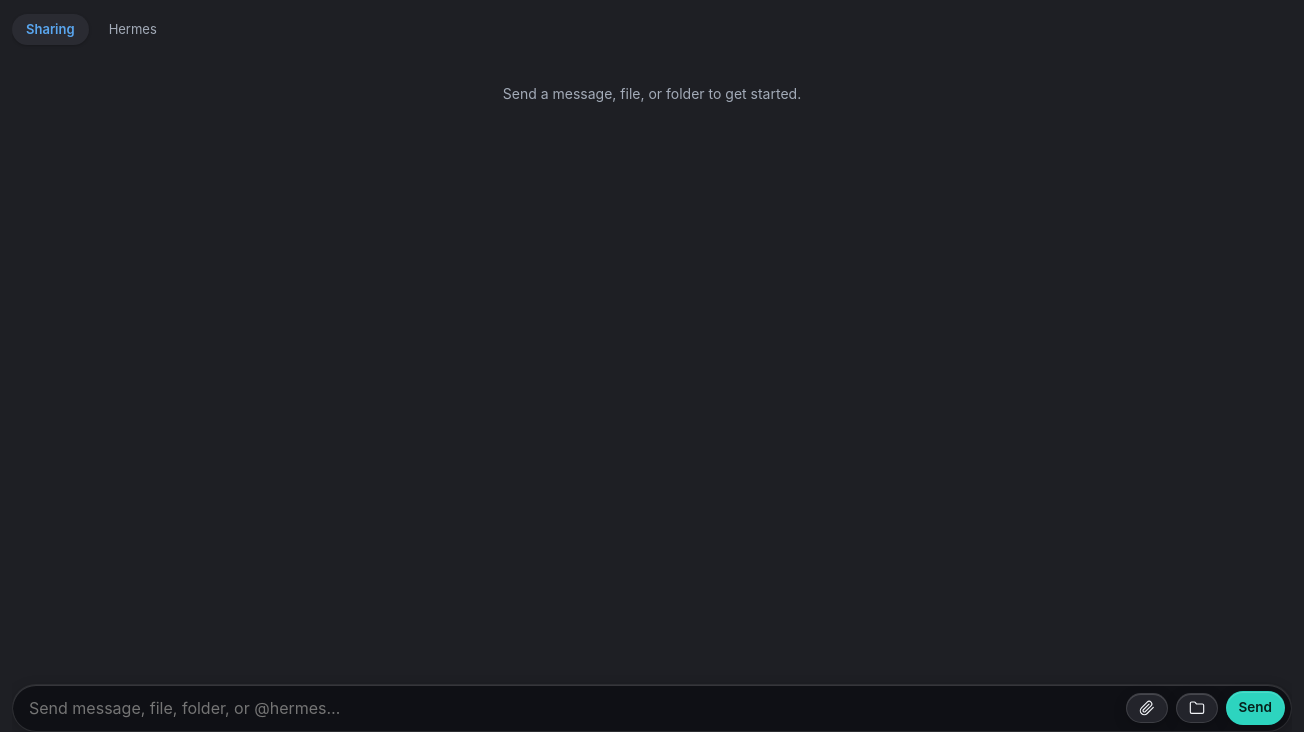
Scenario: ChatPanel › auto-switches to the Hermes tab when an @hermes message is sent
Step 1. Type "@hermes hi" into the field with placeholder "Send message, file, folder, or @hermes…" → x=572, y=708, box x1=27 y1=696 x2=1118 y2=721
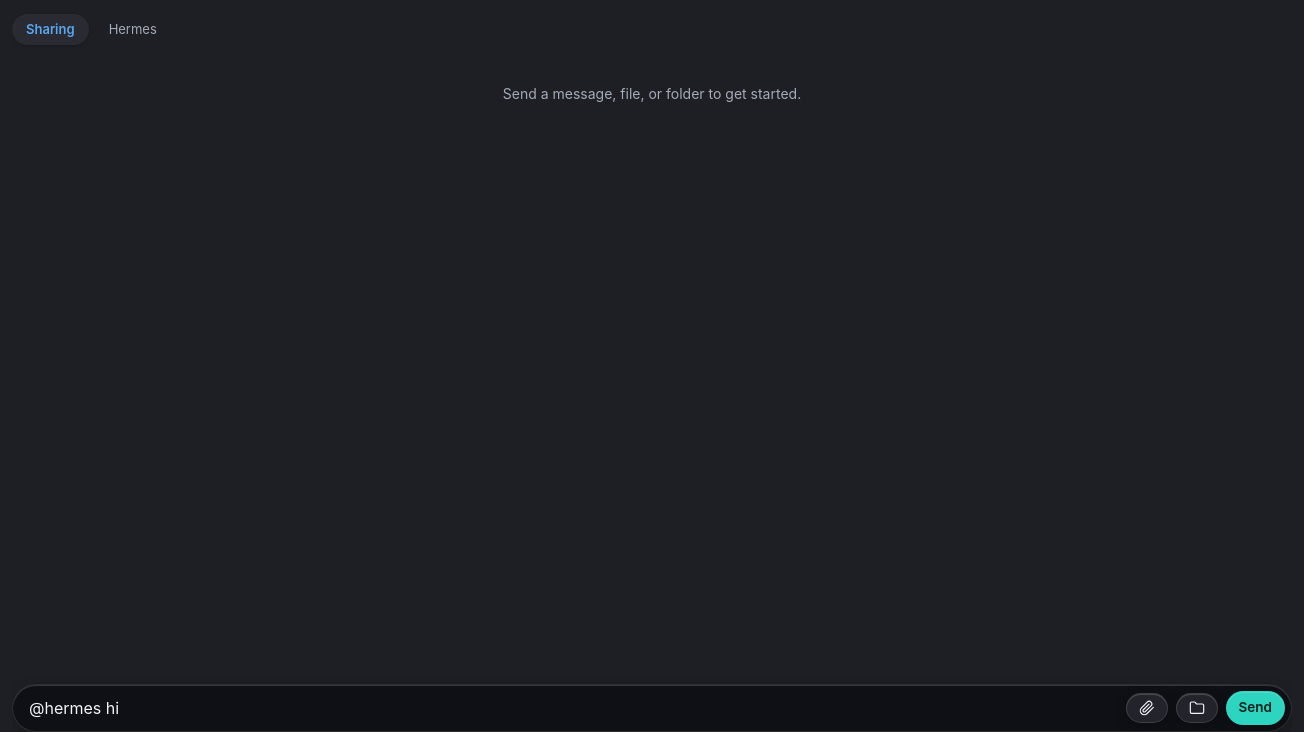
Step 2. Click the button "Send" → x=1255, y=708, box x1=1226 y1=691 x2=1285 y2=725
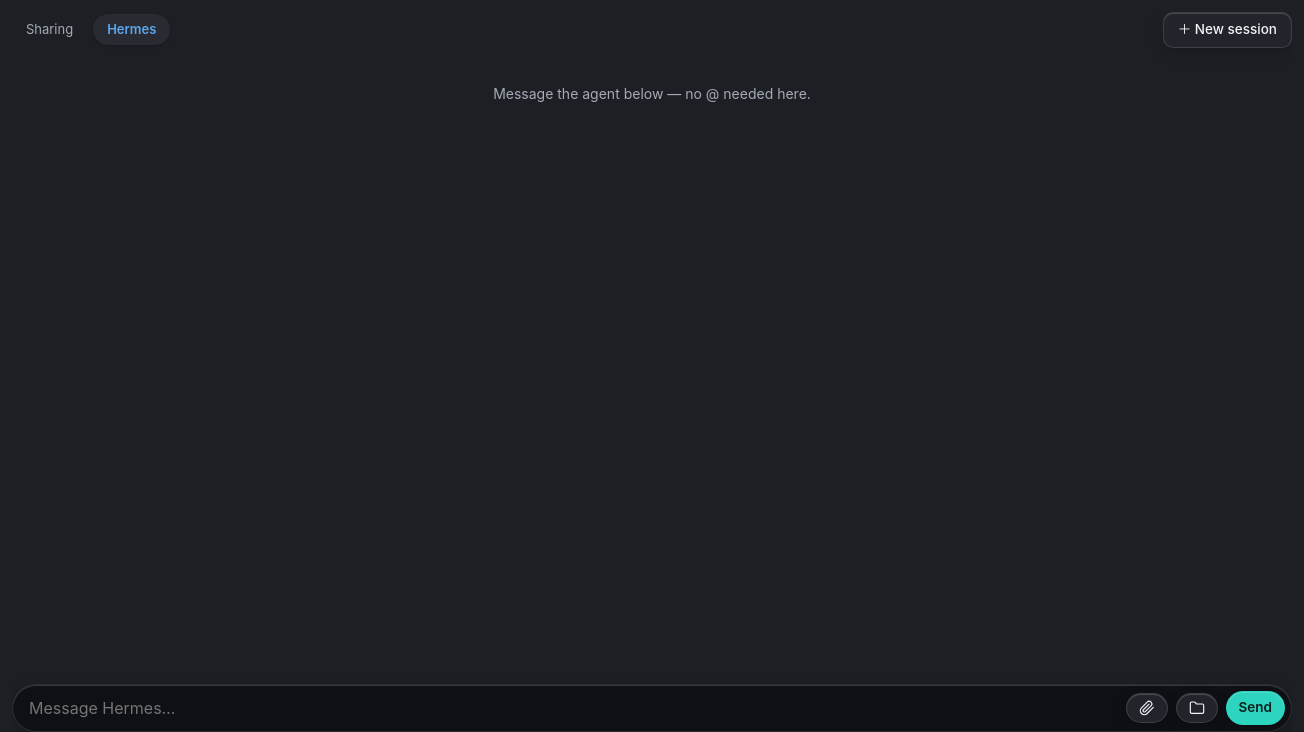
Expected: the text "Message the agent below — no @ needed here." is shown, x1=493 y1=85 x2=811 y2=102
